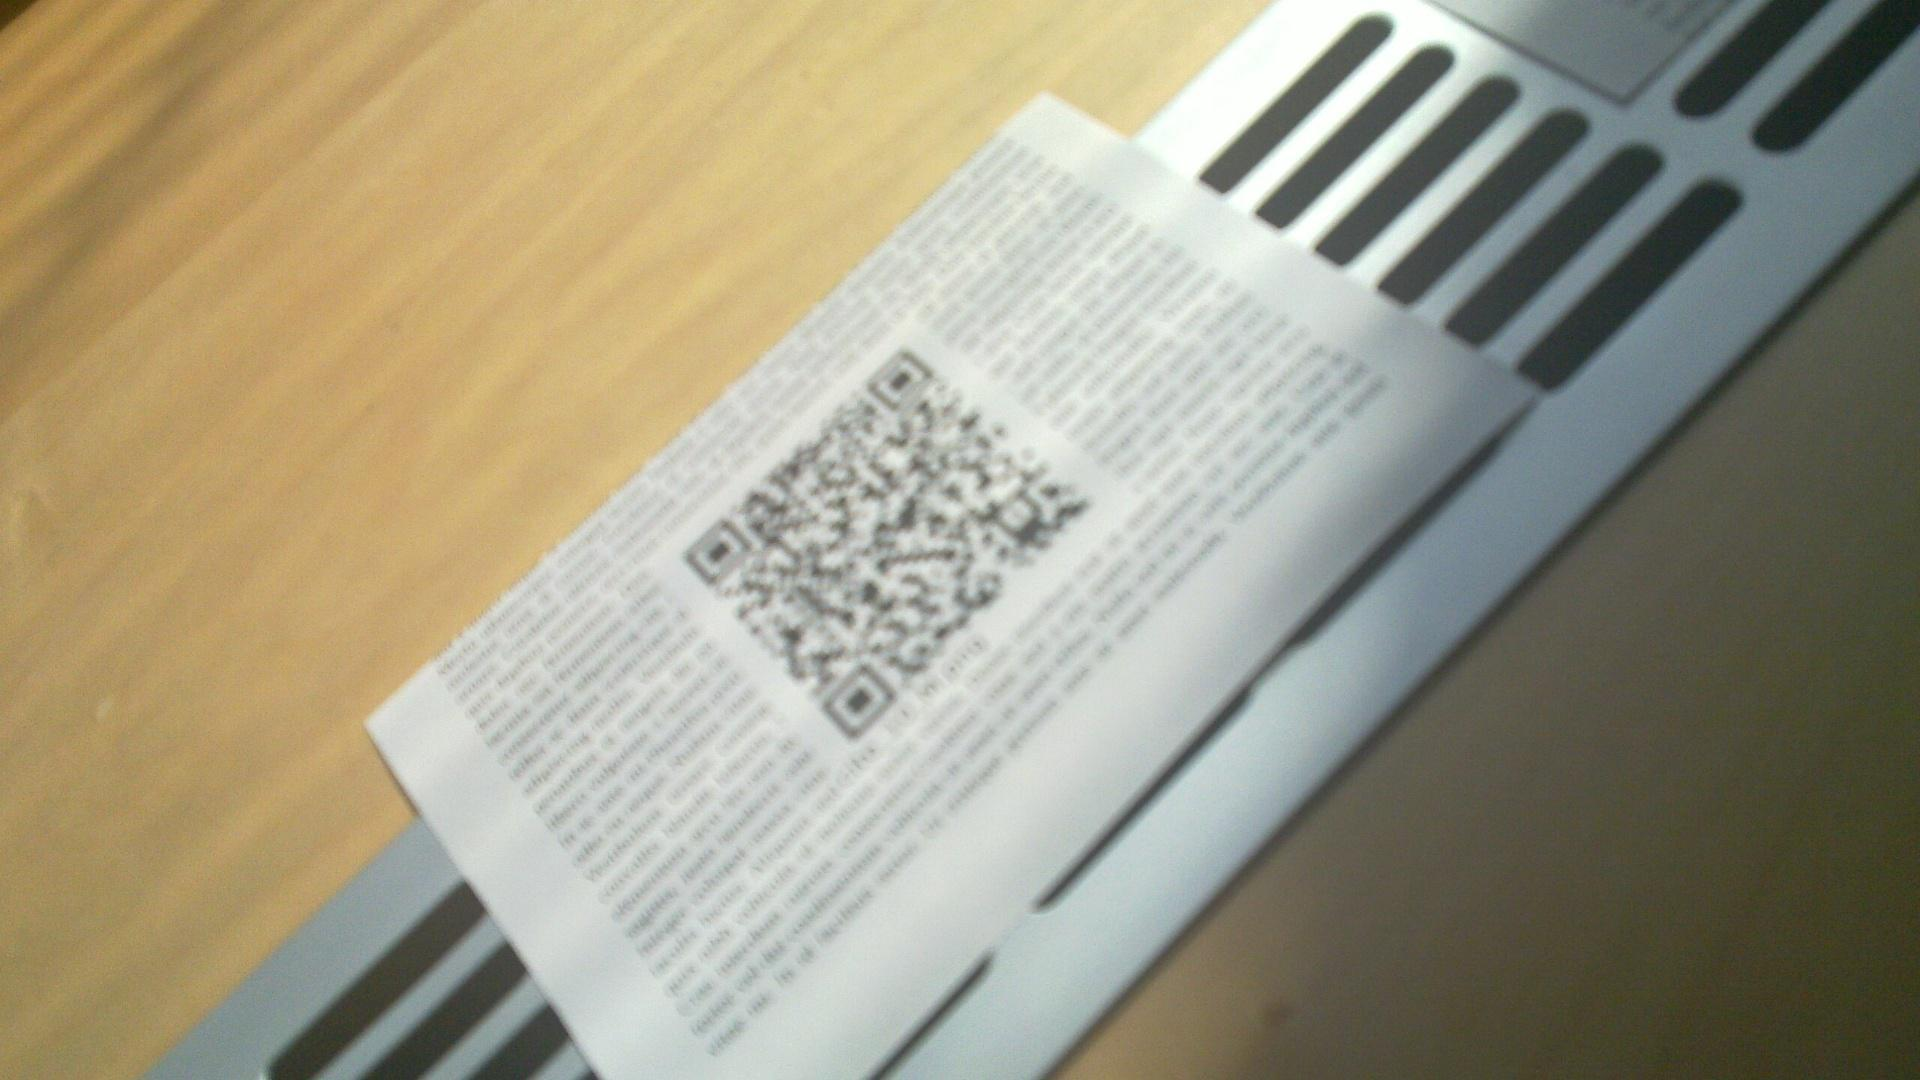Finder pattern: (820, 662, 898, 741), (860, 349, 928, 414), (680, 524, 750, 583)
